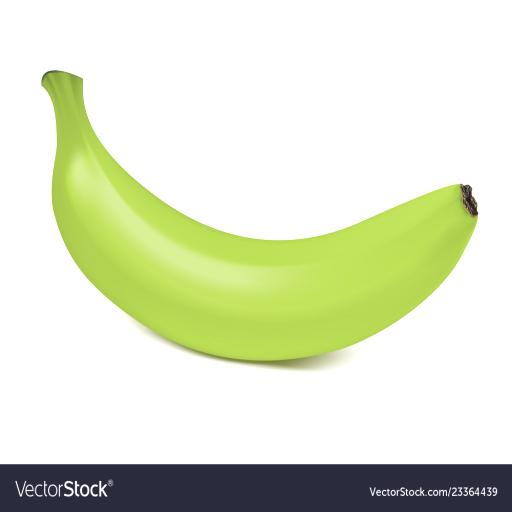banana-unripe: (9, 49, 512, 408)
